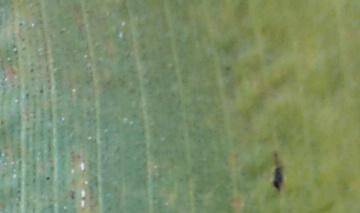tarspot: (269, 149, 284, 193), (57, 27, 67, 36), (69, 188, 76, 200), (224, 63, 231, 73), (44, 77, 53, 84), (80, 195, 88, 202), (43, 175, 52, 181), (23, 92, 30, 99), (17, 20, 24, 27), (28, 66, 35, 73), (38, 87, 44, 94)
